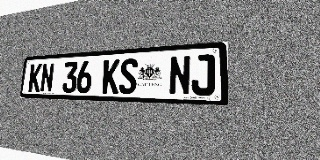3: (62, 61, 78, 93)
6: (76, 61, 93, 93)
J: (191, 54, 215, 96)
K: (102, 59, 120, 94), (28, 63, 42, 92)
N: (169, 55, 191, 95), (40, 63, 55, 93)
S: (119, 58, 138, 94)
